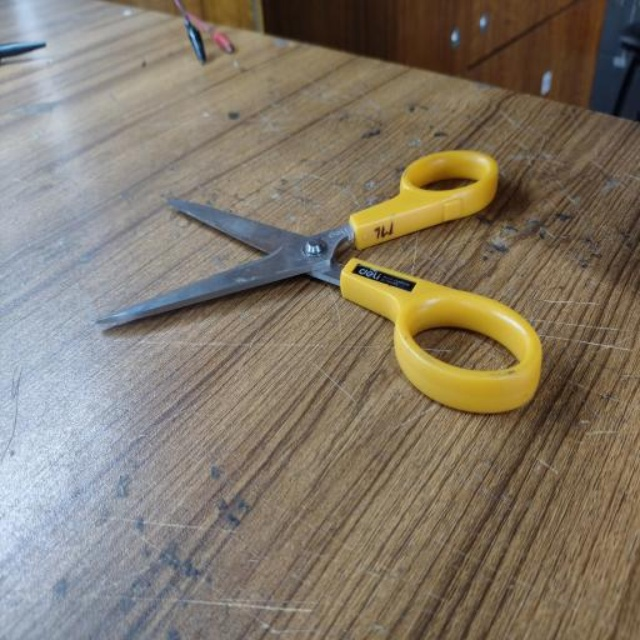scissor: (97, 146, 547, 438)
